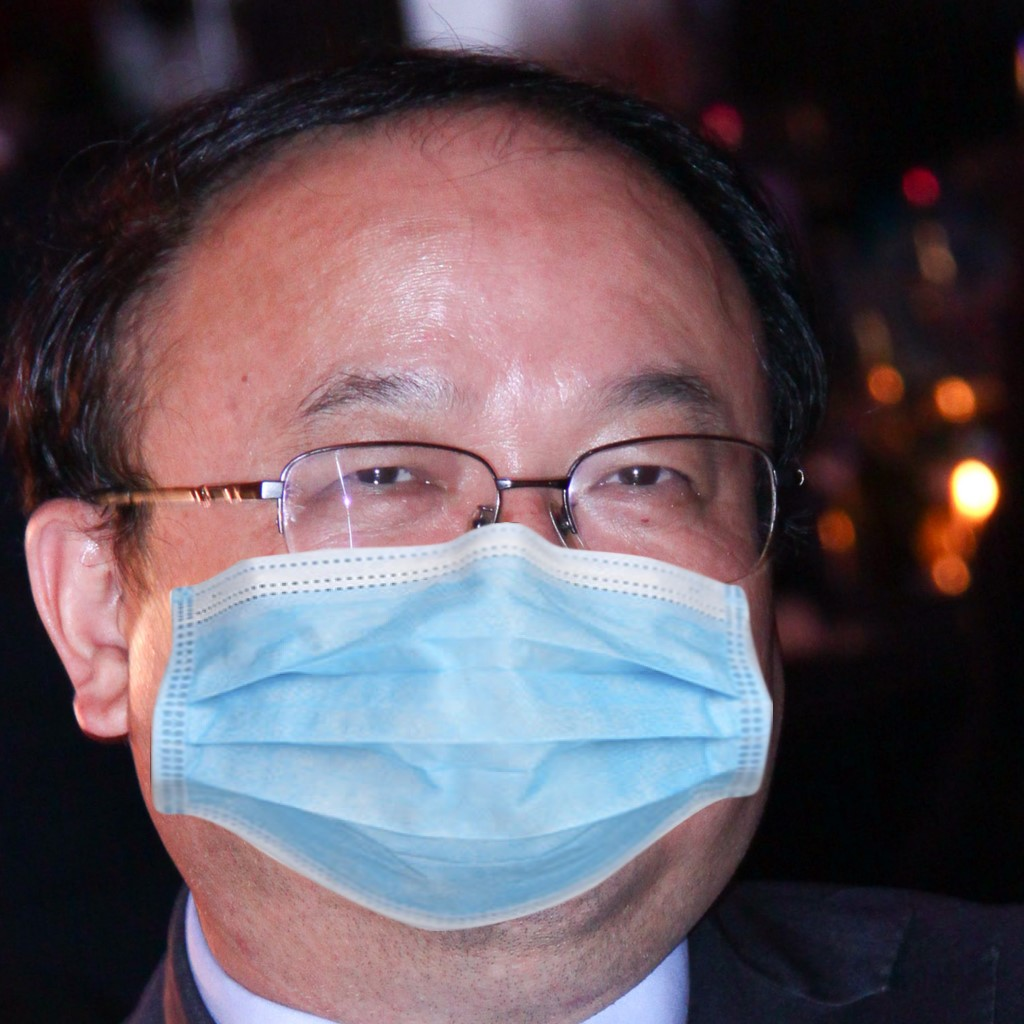con_mascara: (100, 106, 802, 976)
